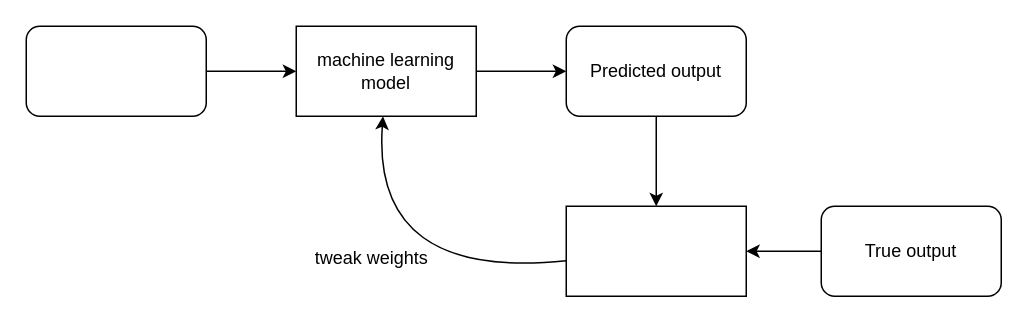
The diagram is 1028 pixels wide and 323 high, and some of its shapes have lost their labels. Here are the shapes that lost their labels. From the top down, the box of each, then its label:
(25, 25, 206, 116): Input matrix
(565, 205, 746, 296): Compute error
